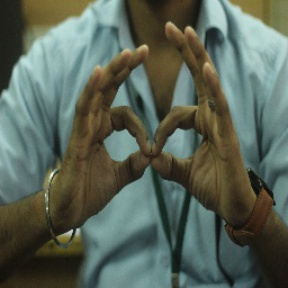B: (99, 98, 212, 193)
